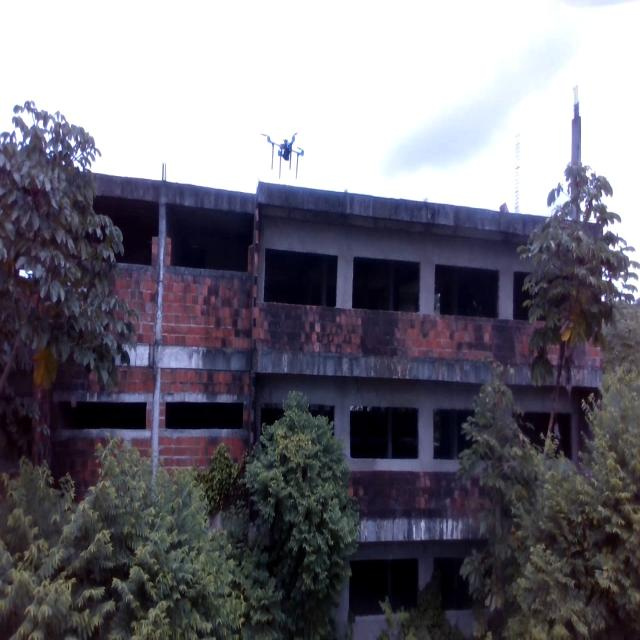-uav-: (256, 111, 307, 184)
